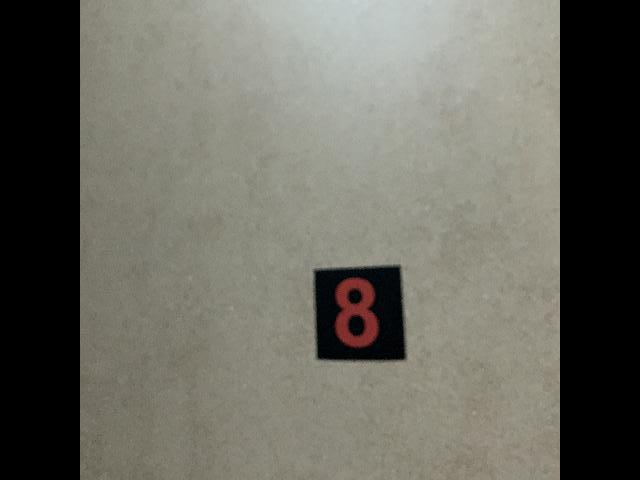eight: (312, 265, 409, 364)
